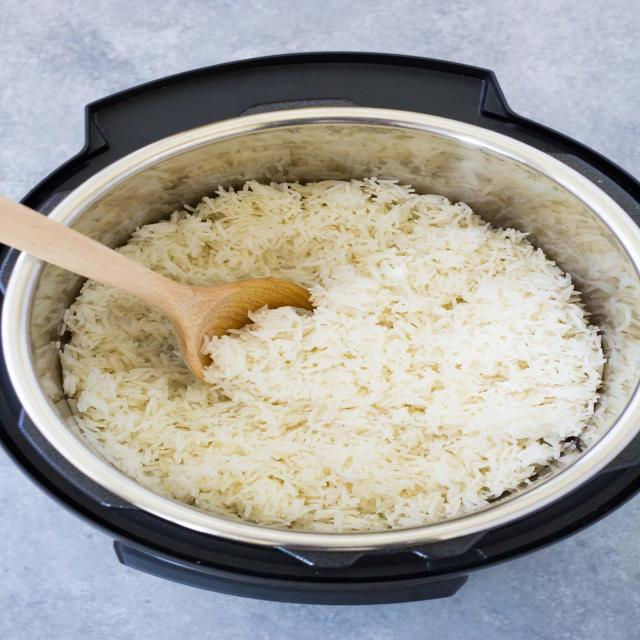rice: (68, 183, 612, 527)
